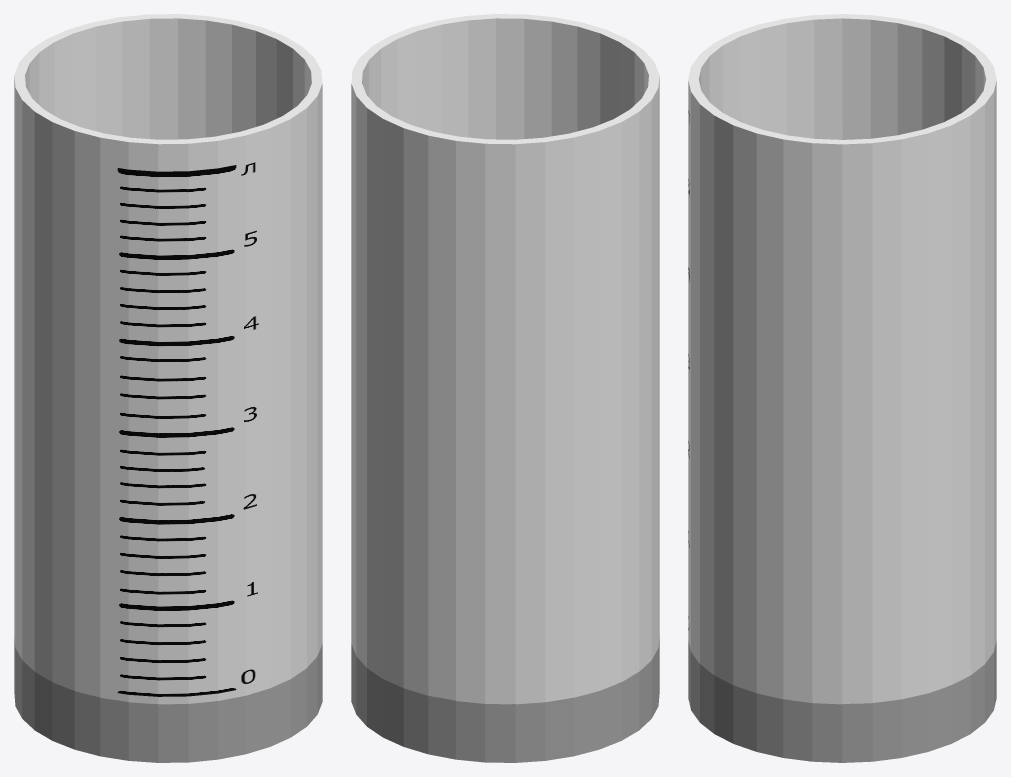
File: Calorimeters.fbx
3 views of the same model, side by side, from view 1: azimuth 30°, elevation 25°; view 2: azimuth 150°, elevation 25°; view 3: azimuth 270°, elevation 25° (orthographic).
Parts seen in each view (by area): view 1: Мерный стакан 5л.001, Мерный стакан 5л.002, Цилиндр.007; view 2: Мерный стакан 5л.002, Мерный стакан 5л.001, Цилиндр.007; view 3: Мерный стакан 5л.001, Мерный стакан 5л.002, Цилиндр.007.
Boxes of the visible parts, x1=… form: Мерный стакан 5л.001: x1=34, y1=46, x2=322, y2=704; Мерный стакан 5л.002: x1=14, y1=14, x2=301, y2=670; Цилиндр.007: x1=14, y1=636, x2=322, y2=762; Мерный стакан 5л.002: x1=351, y1=46, x2=639, y2=704; Мерный стакан 5л.001: x1=372, y1=14, x2=659, y2=671; Цилиндр.007: x1=351, y1=635, x2=659, y2=762; Мерный стакан 5л.001: x1=688, y1=14, x2=842, y2=704; Мерный стакан 5л.002: x1=842, y1=14, x2=996, y2=703; Цилиндр.007: x1=688, y1=641, x2=996, y2=762.
Size of the model in its own units: 1.58 by 3.49 by 1.58.
2 materials, 1 textured.
